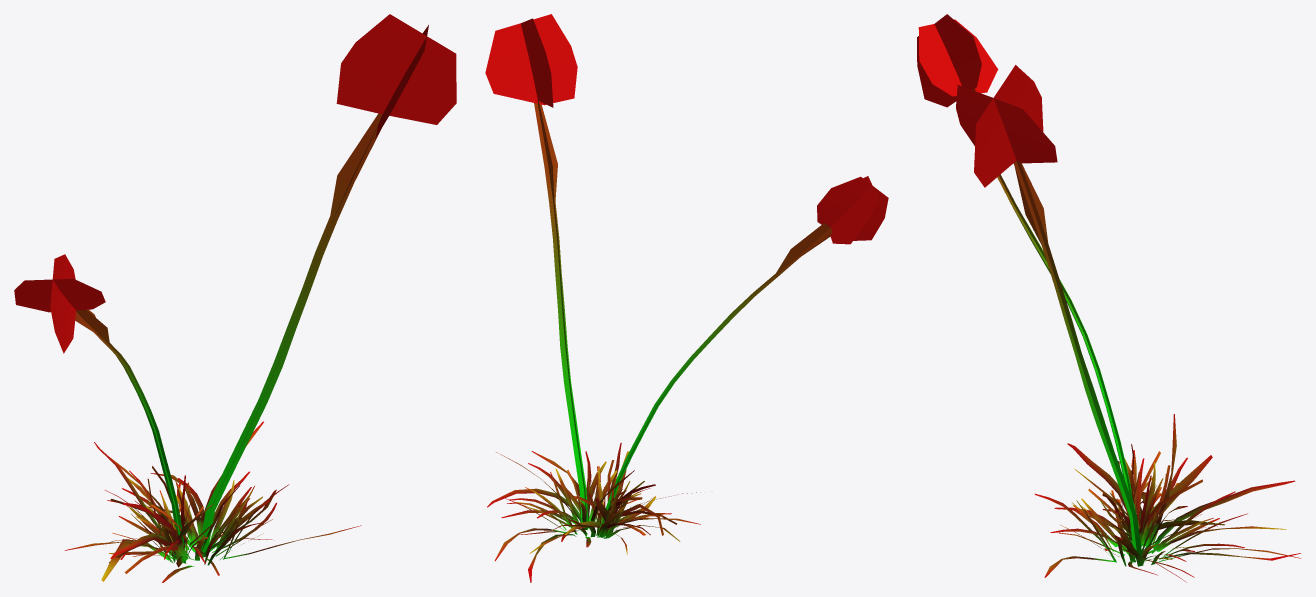
The model's file is Var9_LOD1.fbx.
3 views of the same model, side by side, from view 1: azimuth 30°, elevation 25°; view 2: azimuth 150°, elevation 25°; view 3: azimuth 270°, elevation 25° (orthographic). The views are drawn at different scales.
Parts seen in each view (by area): view 1: _s5x1_Var9_LOD1; view 2: _s5x1_Var9_LOD1; view 3: _s5x1_Var9_LOD1.
Boxes of the visible parts, x1,y1,x2,y2 form: _s5x1_Var9_LOD1: (14,14,456,582); _s5x1_Var9_LOD1: (485,14,888,582); _s5x1_Var9_LOD1: (917,14,1301,582).
Bounding box in the file's own units: 11.48 × 13.86 × 8.64.
